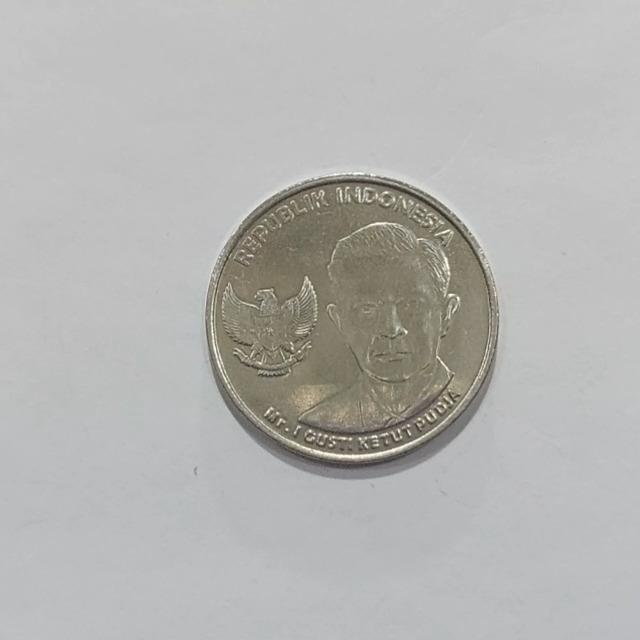Rp100: (204, 171, 500, 467), (292, 219, 463, 436), (218, 273, 319, 378)
